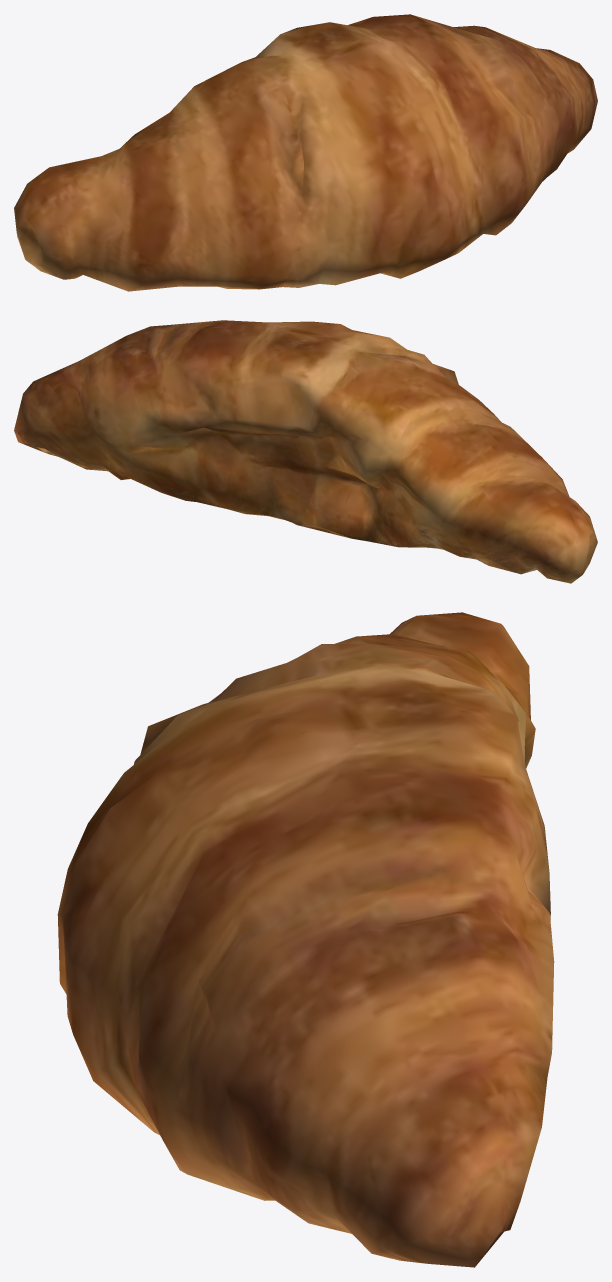
The model's file is ph_croissant.glb.
3 renders of one model, top to bottom at view 1: azimuth 30°, elevation 25°; view 2: azimuth 150°, elevation 25°; view 3: azimuth 270°, elevation 25°, orthographic. The views are drawn at different scales.
Parts seen in each view (by area): view 1: croissant; view 2: croissant; view 3: croissant.
Part boxes in pixels (x1,y1,x2,y2): croissant: [14, 14, 597, 291]; croissant: [14, 320, 597, 583]; croissant: [57, 612, 554, 1267].
Size of the model in its own units: 0.2001 by 0.0619 by 0.0753.
1 material, 1 textured.
